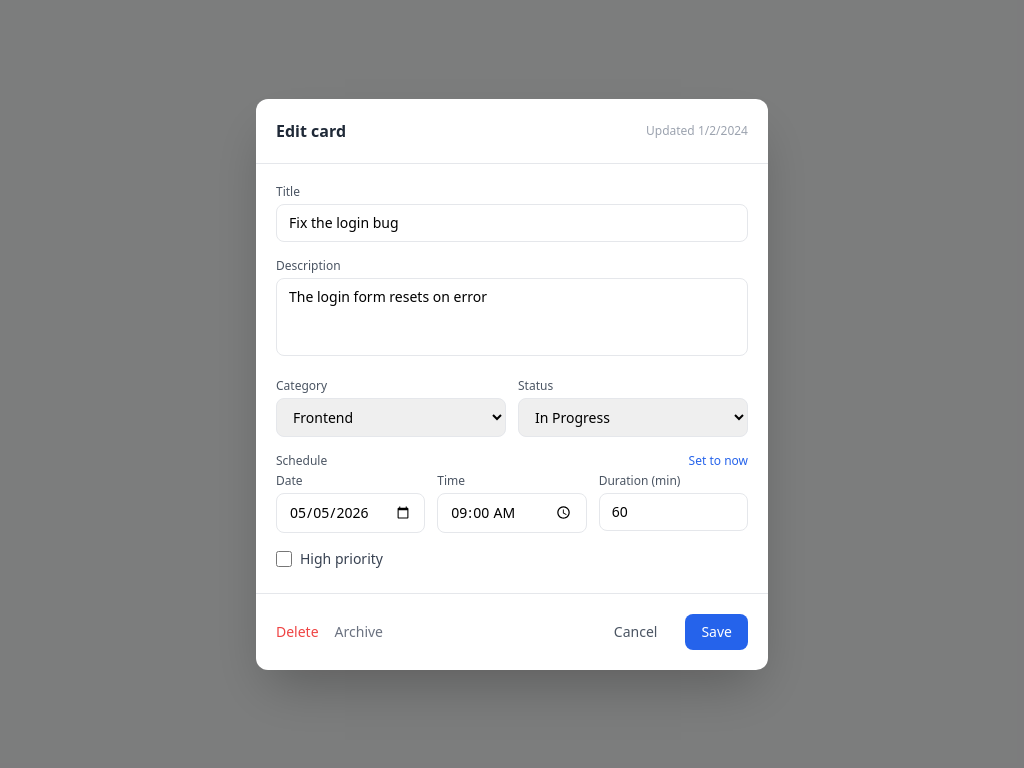
Test: CardDetail › shows error if PUT fails
Click the button "Save".
click(717, 632)  # box top-left (685, 614), bottom-right (748, 650)
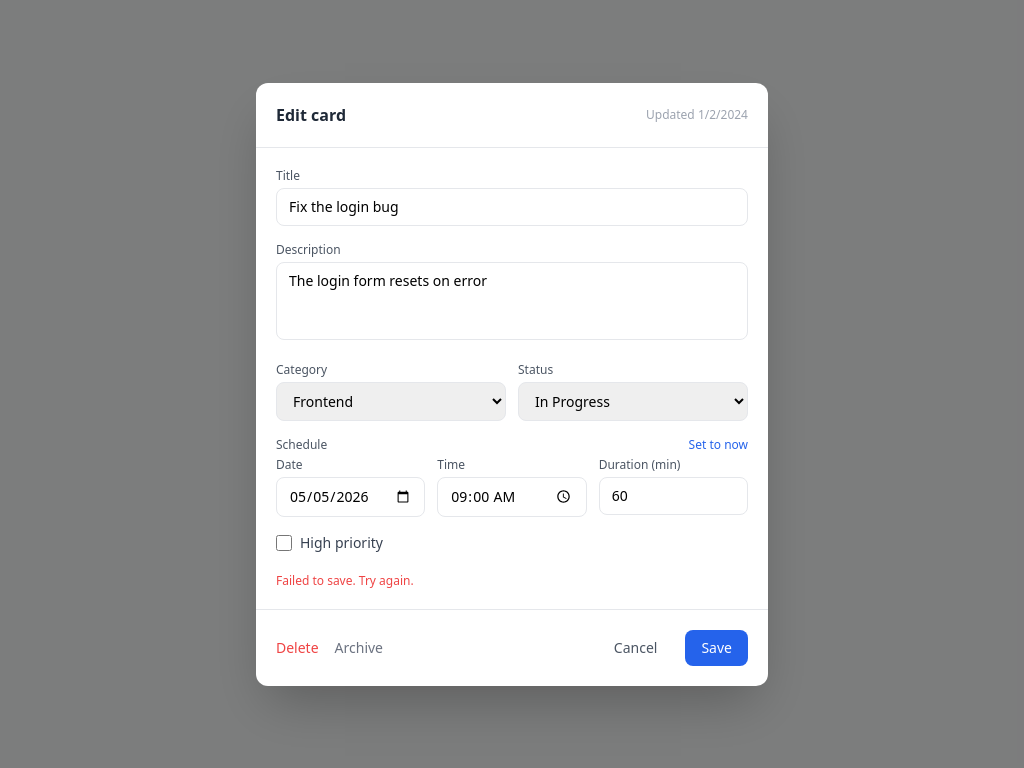
Result: the text "Failed to save. Try again." is shown at top-left (276, 572), bottom-right (414, 588)
